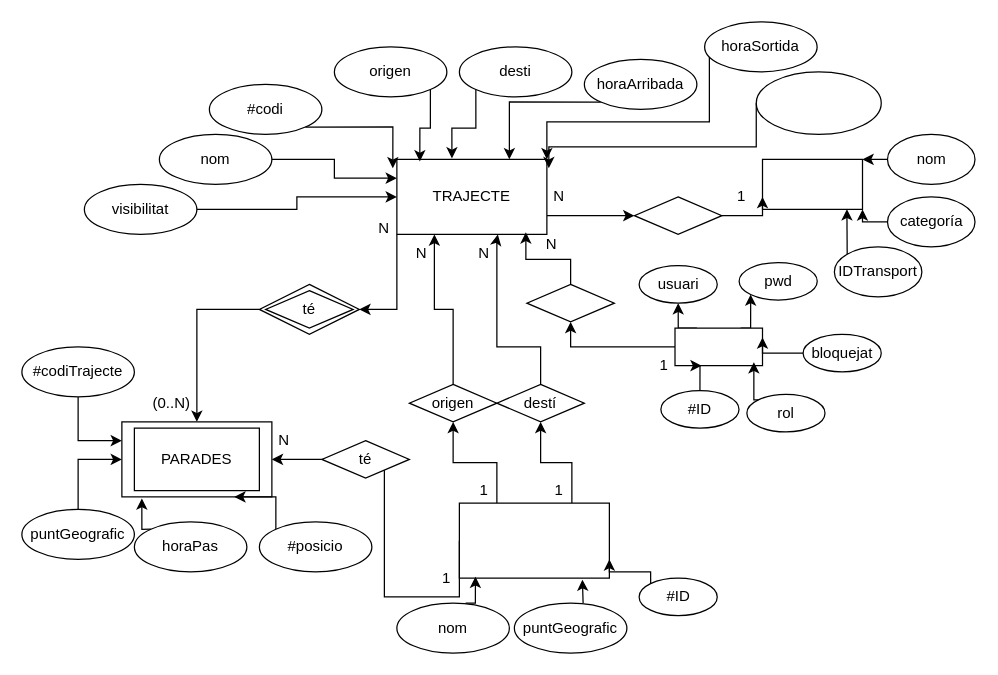
The diagram is 998 pixels wide and 675 high, and some of its shapes have lost their labels. The shapes that lost their labels are listed below. From the top down, each one's centre as x and y in pixels, then its label:
At (x=818, y=102): "dataHoraCreacio".
At (x=811, y=183): "TRANSPORT".
At (x=677, y=215): "utilitza".
At (x=570, y=302): "crea".
At (x=718, y=346): "USUARIS".
At (x=533, y=540): "CIUTAT".
